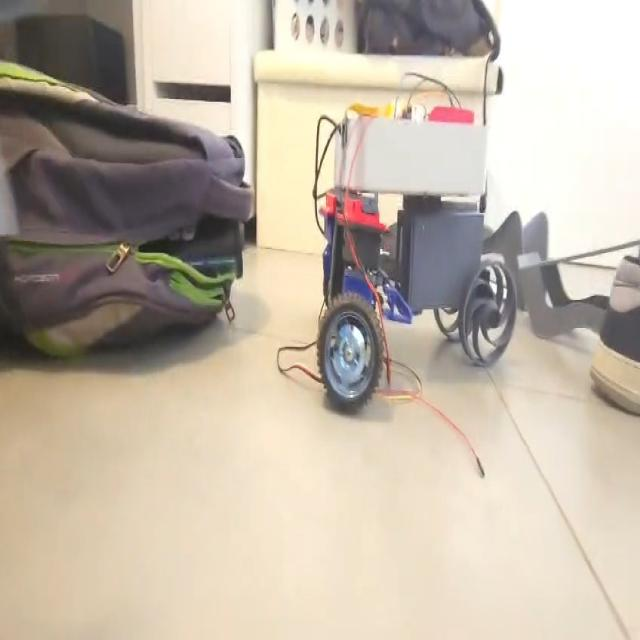Robot: (317, 103, 516, 413)
